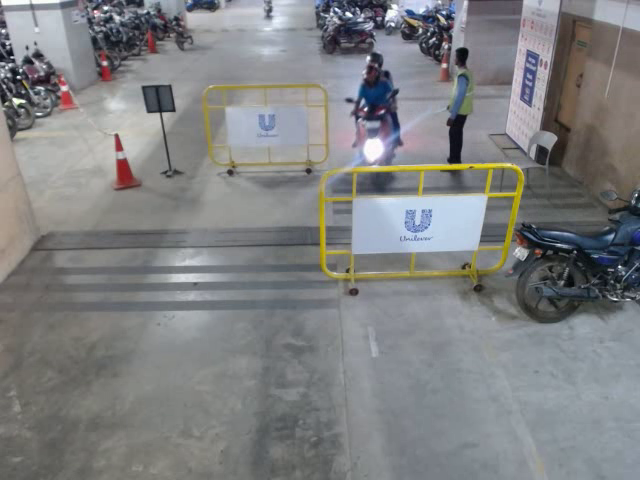with_helmet: (363, 67, 379, 84)
